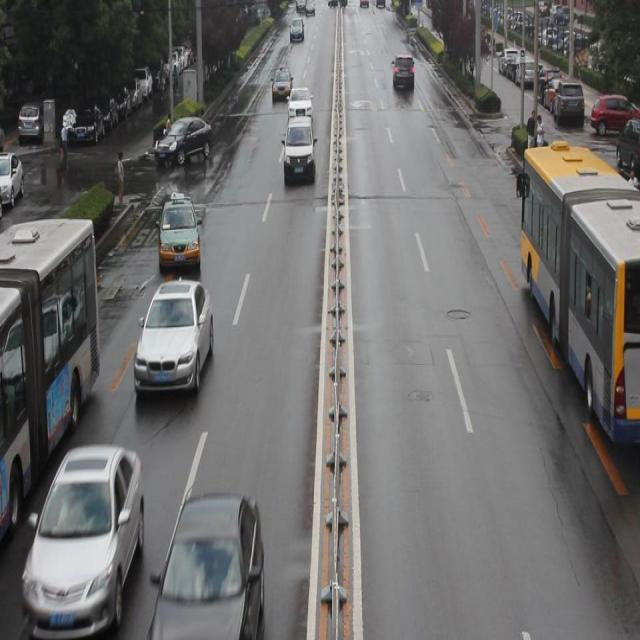car: (23, 450, 145, 626), (157, 495, 263, 630), (133, 280, 215, 396), (157, 196, 201, 276), (154, 117, 214, 165), (287, 86, 312, 129)
truck: (285, 117, 315, 183)
van: (514, 146, 632, 434), (1, 218, 99, 533)
